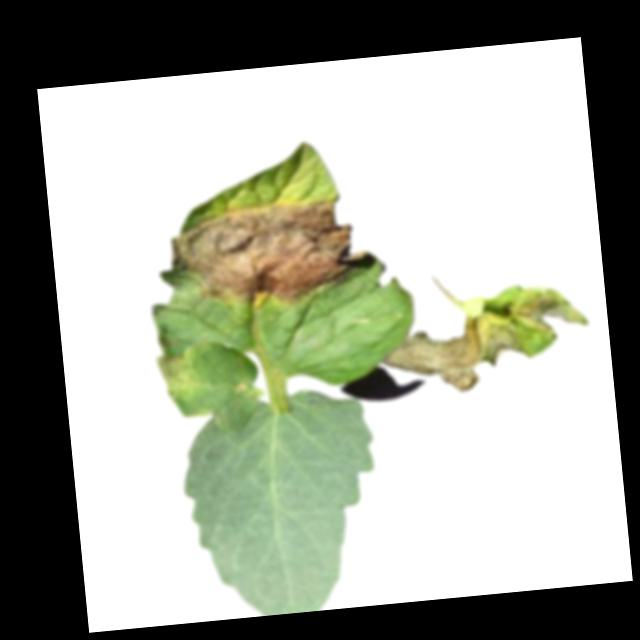Late_blight: (167, 191, 380, 316), (376, 278, 592, 398), (154, 343, 206, 404)
healthy: (174, 384, 386, 622)
